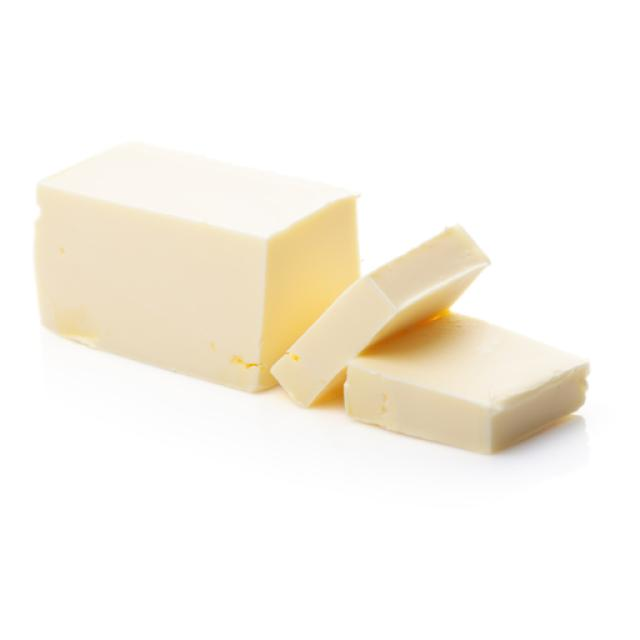Butter: (34, 140, 356, 395), (273, 224, 487, 411), (353, 317, 575, 453)
